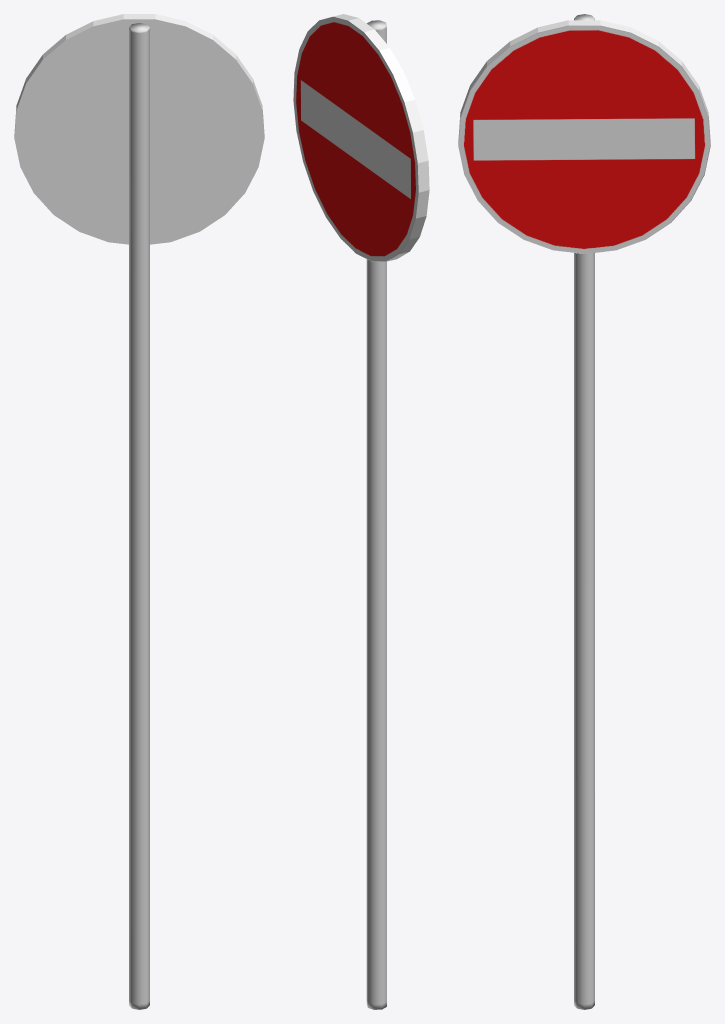
The model's file is sign_no_entry.glb.
3 views of the same model, side by side, from view 1: azimuth 90°, elevation 25°; view 2: azimuth 210°, elevation 25°; view 3: azimuth 270°, elevation 25° (orthographic).
Parts seen in each view (by area): view 1: no_entry, pole; view 2: no_entry, pole; view 3: no_entry, pole.
Boxes of the visible parts, x1=… form: no_entry: x1=14, y1=14, x2=264, y2=244; pole: x1=129, y1=23, x2=149, y2=1009; no_entry: x1=293, y1=14, x2=429, y2=261; pole: x1=366, y1=20, x2=386, y2=1009; no_entry: x1=458, y1=20, x2=710, y2=253; pole: x1=574, y1=14, x2=594, y2=1009.
Size of the model in its own units: 0.0826 by 2.6 by 0.6.
Materials: 2 (1 with a texture image).
